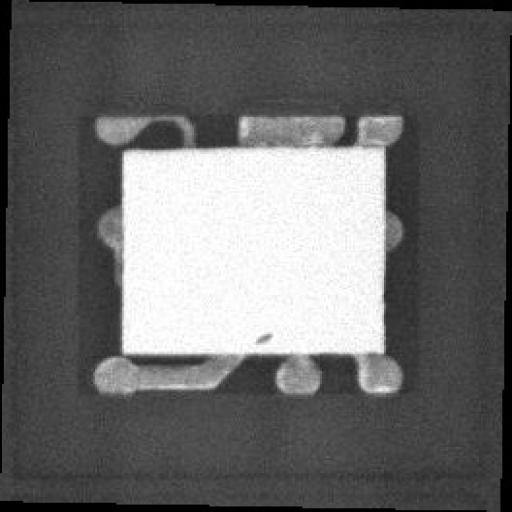DIE_INK: (241, 343, 258, 359)
